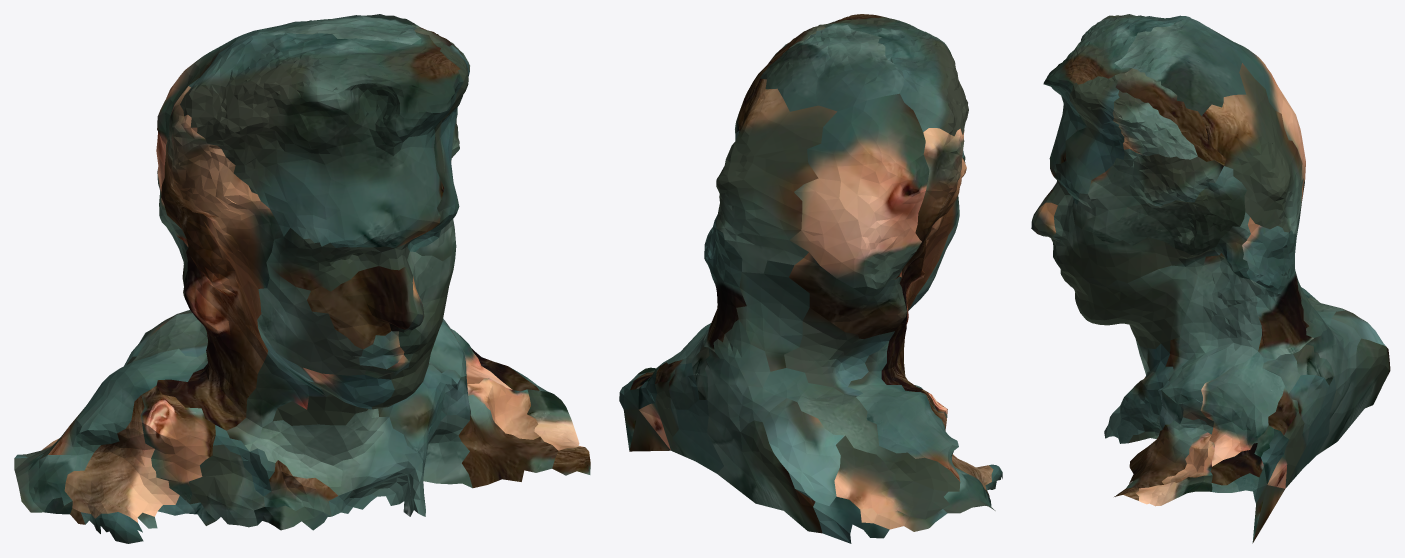
3 renders of one model, left to right at view 1: azimuth 30°, elevation 25°; view 2: azimuth 150°, elevation 25°; view 3: azimuth 270°, elevation 25°, orthographic. The views are drawn at different scales.
Visible parts, largest first — view 1: Node #0; view 2: Node #0; view 3: Node #0.
Boxes of the visible parts, bbox=[...] form: Node #0: bbox=[14, 14, 590, 543]; Node #0: bbox=[619, 14, 1002, 543]; Node #0: bbox=[1031, 14, 1390, 543].
Size of the model in its own units: 0.6597 by 0.6794 by 0.5292.
Materials: 1 (1 with a texture image).
